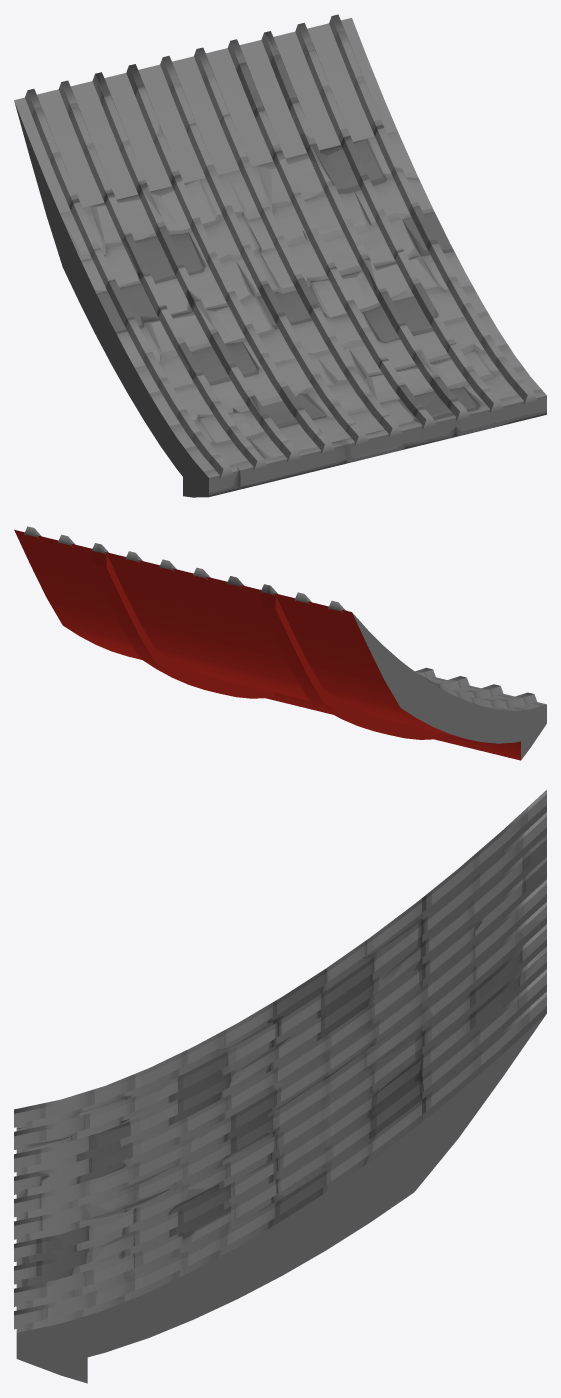
Rendered from SM_Bld_Kawara_M_01.fbx.
The picture shows the model from 3 angles, top to bottom: view 1: azimuth 30°, elevation 25°; view 2: azimuth 150°, elevation 25°; view 3: azimuth 270°, elevation 25°; orthographic projection. The views are drawn at different scales.
Parts seen in each view (by area): view 1: SM_Bld_Kawara_M_01; view 2: SM_Bld_Kawara_M_01; view 3: SM_Bld_Kawara_M_01.
Boxes of the visible parts, x1,y1,x2,y2 form: SM_Bld_Kawara_M_01: (14, 14, 546, 497); SM_Bld_Kawara_M_01: (14, 526, 546, 760); SM_Bld_Kawara_M_01: (14, 790, 546, 1383).
Bounding box in the file's own units: 5 × 3.94 × 5.03.
